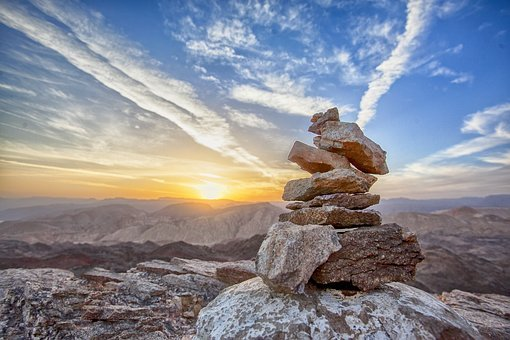mountain: (8, 199, 501, 336)
sky: (6, 3, 508, 192)
stone: (278, 122, 430, 323)
